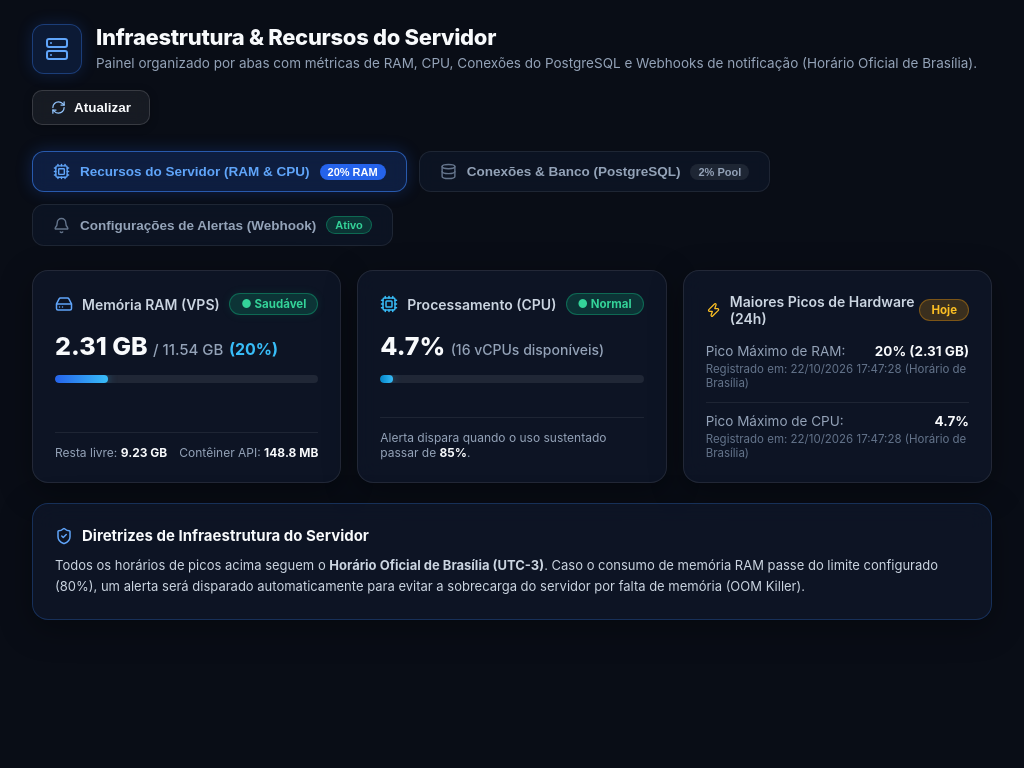
Scenario: InfrastructureManagement Component › allows switching between subtabs (Database and Alerts)
Note: Clica na aba Conexões & Banco
What coordinates should you click on to do the following:
click the button with test id "subtab-database"
I would click on:
 (594, 172)
Its box is [419,151,770,192].
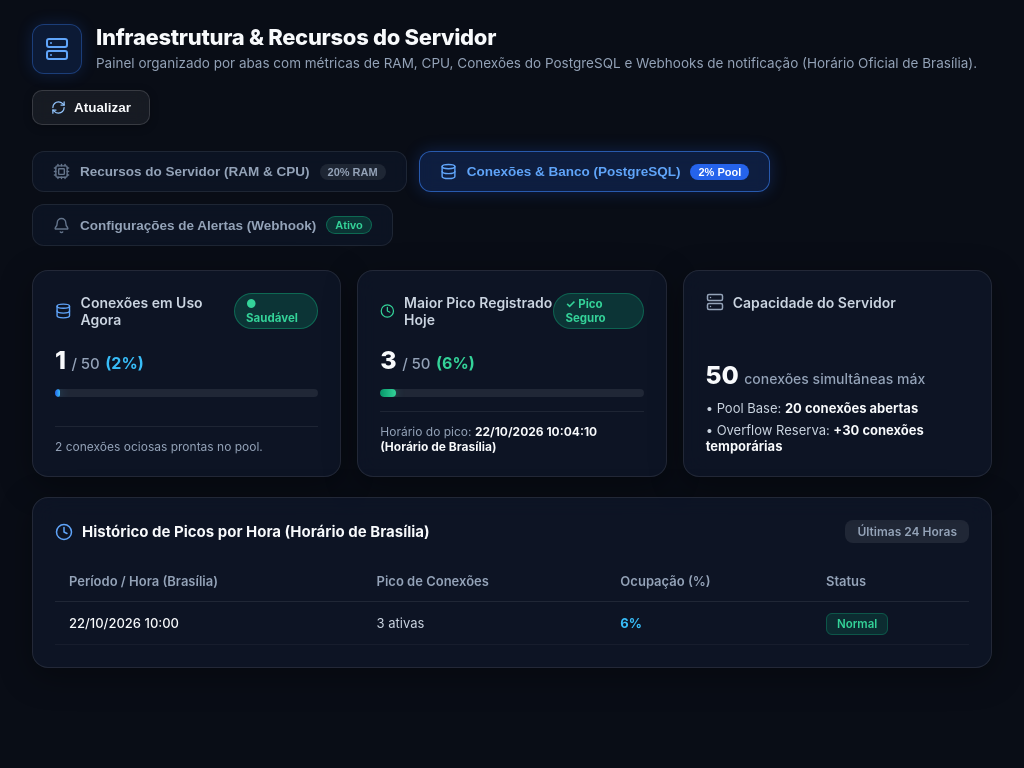
Expected: the text "Conexões em Uso Agora" is shown, [81,294,203,328]
Expected: the text "Maior Pico Registrado Hoje" is shown, [404,294,553,328]
Expected: the text "conexões simultâneas máx" is shown, [744,370,925,387]
Note: Clica na aba Configurações de Alertas
What coordinates should you click on to do the following:
click the button with test id "subtab-alerts"
I would click on:
 (212, 225)
Its box is [32,204,393,246].
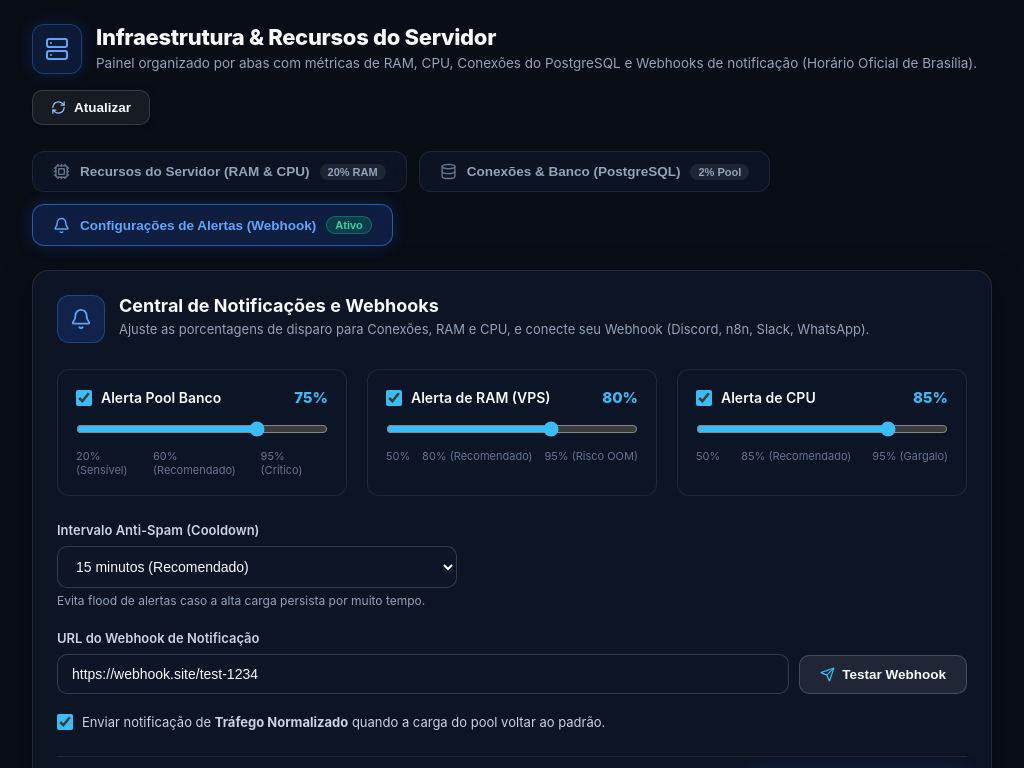
Expected: the heading "Central de Notificações e Webhooks" is shown, [119,295,439,316]
